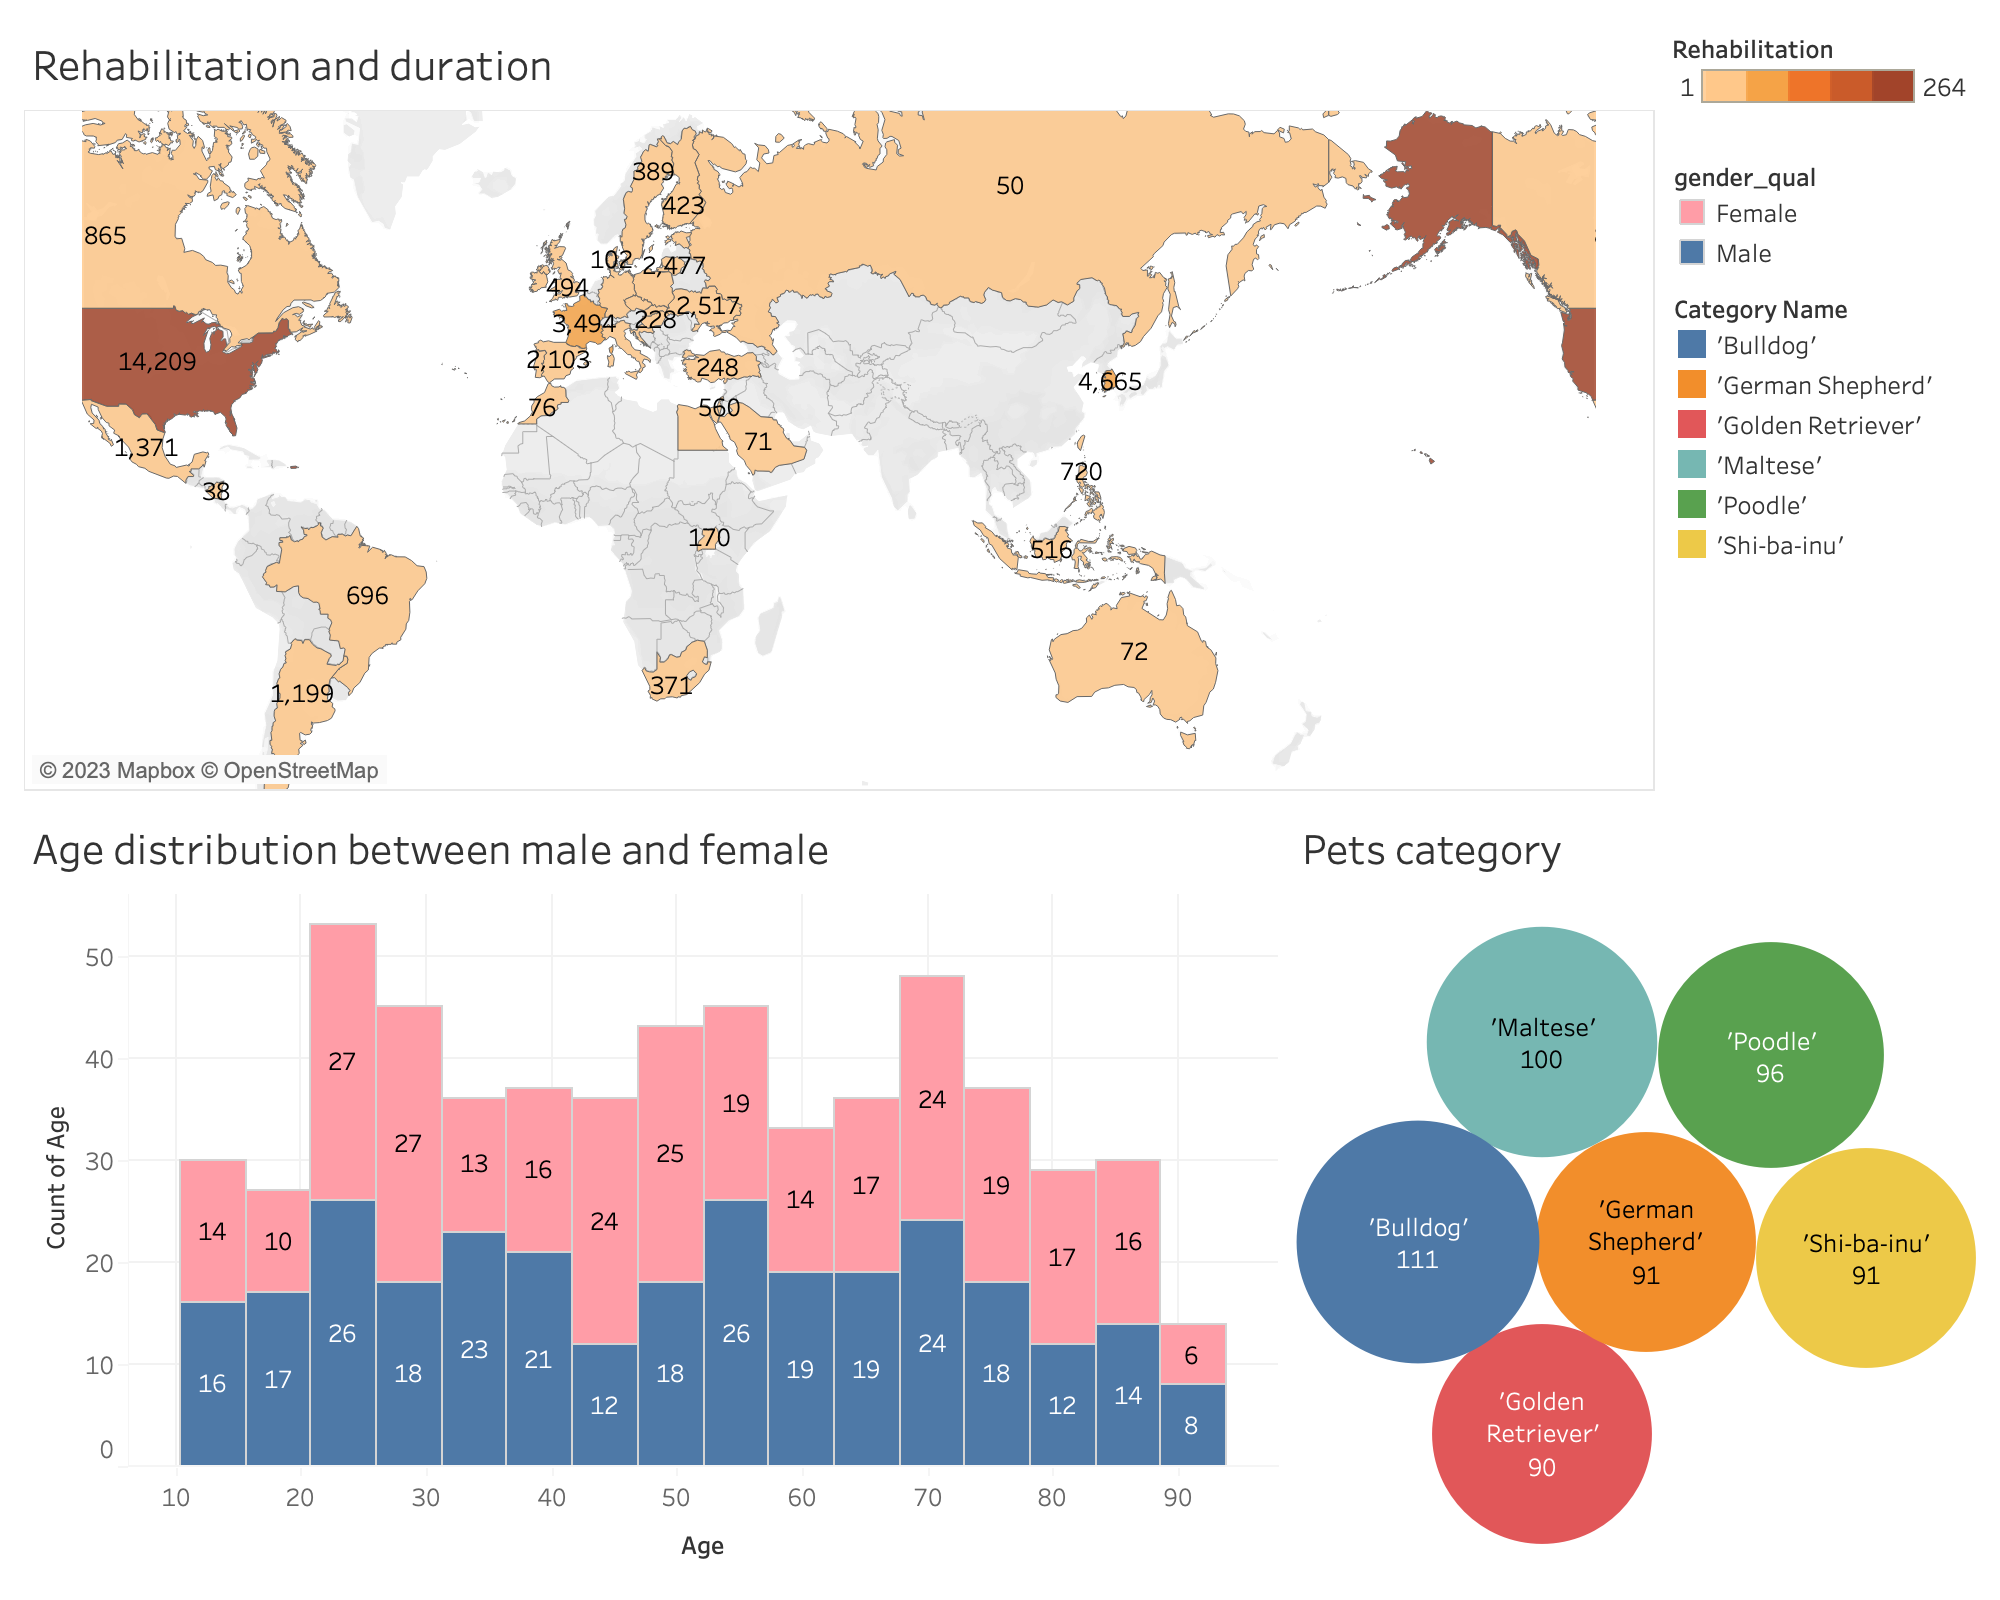

Layout of this report page (visuals, bound fields, positions):
{"tool":"tableau","page":{"name":"Dashboard 1","canvas":[1000,800],"ordinal":0},"visuals":[{"type":"worksheet","title":"Sheet 1","mark":"Multipolygon","box":[8,8,477,415]},{"type":"worksheet","title":"Sheet 4","mark":"Circle","box":[485,8,235,278]},{"type":"legend","title":"Sheet 1","param":"[federated.0lhj6ik0vda5mm13gpbfz1koafni].[sum:Rehabilitation:qk]","box":[720,8,272,65]},{"type":"legend","title":"Sheet 2","param":"[federated.0lhj6ik0vda5mm13gpbfz1koafni].[none:Calculation_343821691433123840:nk","box":[720,73,272,66]},{"type":"legend","title":"Sheet 4","param":"[federated.0lhj6ik0vda5mm13gpbfz1koafni].[none:category_name:nk]","box":[720,139,272,146]},{"type":"worksheet","title":"Sheet 2","mark":"Automatic","rows":["Age"],"cols":["Age (bin)"],"box":[8,423,477,369]}]}

Visuals, with their boxes in screenshot pixels (x1, y1, x2, y2), scaled from the page's 1000x800 canvas onto the 2000x1600 screenshot:
"Sheet 1" worksheet (Multipolygon marks): (left=16, top=16, right=970, bottom=846)
"Sheet 4" worksheet (Circle marks): (left=970, top=16, right=1440, bottom=572)
"Sheet 1" legend: (left=1440, top=16, right=1984, bottom=146)
"Sheet 2" legend: (left=1440, top=146, right=1984, bottom=278)
"Sheet 4" legend: (left=1440, top=278, right=1984, bottom=570)
"Sheet 2" worksheet: (left=16, top=846, right=970, bottom=1584)
